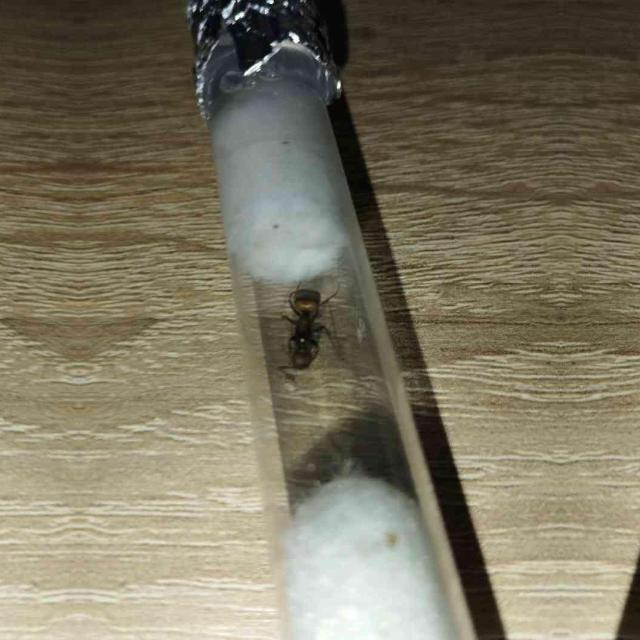Camponotus: (276, 282, 334, 388)
